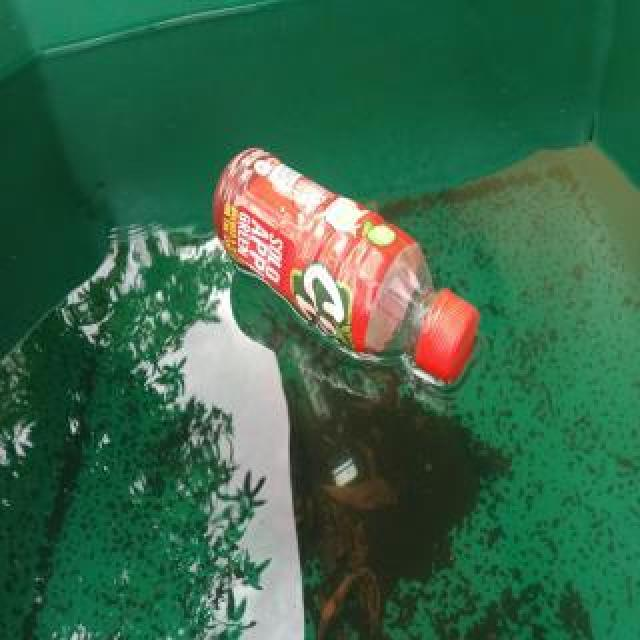bottle: (213, 146, 481, 388)
